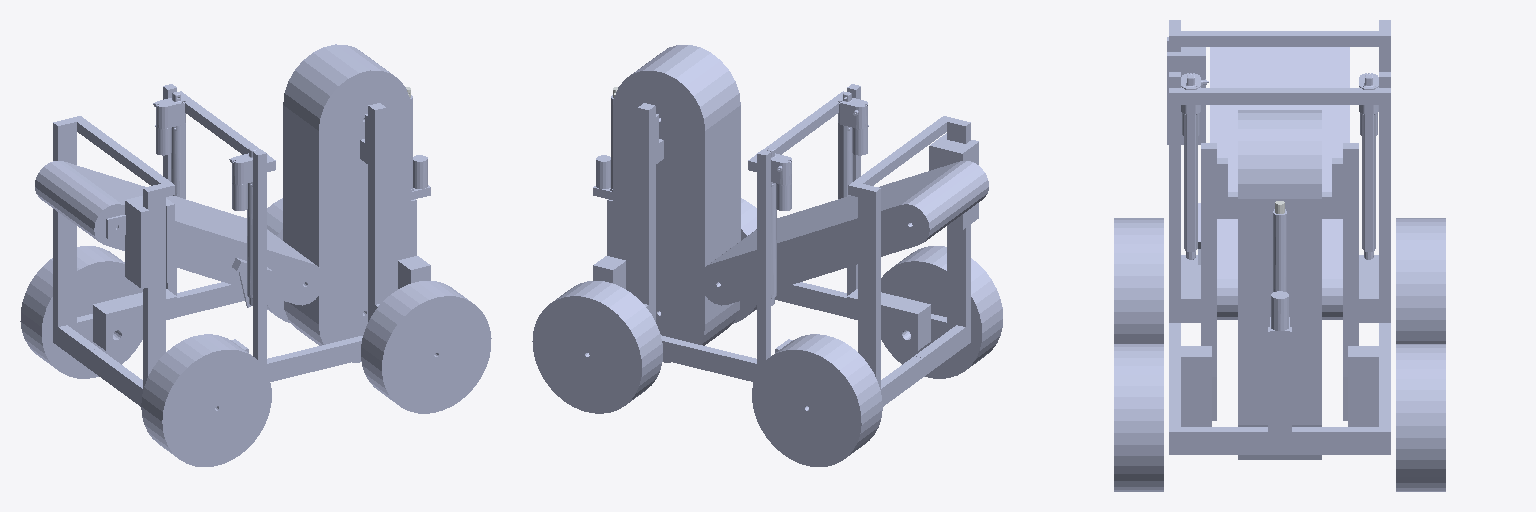
URDF robot description (ROSModel):
<robot
  name="ROSModel">
  <link
    name="base_link">
    <inertial>
      <origin
        xyz="0.0063713 -0.11708 0.0018811"
        rpy="0 0 0" />
      <mass
        value="12.883" />
      <inertia
        ixx="0.27816"
        ixy="-0.020687"
        ixz="1.9963E-05"
        iyy="0.59209"
        iyz="3.0096E-05"
        izz="0.60601" />
    </inertial>
    <visual>
      <origin
        xyz="0 0 0"
        rpy="0 0 0" />
      <geometry>
        <mesh
          filename="package://ROSModel/meshes/base_link.STL" />
      </geometry>
      <material
        name="">
        <color
          rgba="0.79216 0.81961 0.93333 1" />
      </material>
    </visual>
    <collision>
      <origin
        xyz="0 0 0"
        rpy="0 0 0" />
      <geometry>
        <mesh
          filename="package://ROSModel/meshes/base_link.STL" />
      </geometry>
    </collision>
  </link>
  <link
    name="frontLeftWheel">
    <inertial>
      <origin
        xyz="0 0 -0.0508"
        rpy="0 0 0" />
      <mass
        value="7.4005" />
      <inertia
        ixx="0"
        ixy="0"
        ixz="0"
        iyy="0"
        iyz="0"
        izz="0" />
    </inertial>
    <visual>
      <origin
        xyz="0 0 0"
        rpy="0 0 0" />
      <geometry>
        <mesh
          filename="package://ROSModel/meshes/frontLeftWheel.STL" />
      </geometry>
      <material
        name="">
        <color
          rgba="0.79216 0.81961 0.93333 1" />
      </material>
    </visual>
    <collision>
      <origin
        xyz="0 0 0"
        rpy="0 0 0" />
      <geometry>
        <mesh
          filename="package://ROSModel/meshes/frontLeftWheel.STL" />
      </geometry>
    </collision>
  </link>
  <joint
    name="frontLeftWheelRotate"
    type="continuous">
    <origin
      xyz="0.30464 0.23782 -0.28624"
      rpy="1.5708 0.0022295 -1.3651E-19" />
    <parent
      link="base_link" />
    <child
      link="frontLeftWheel" />
    <axis
      xyz="0 0 1" />
  </joint>
  <link
    name="backLeftWheel">
    <inertial>
      <origin
        xyz="-1.6653E-16 -1.9602E-16 -0.0508"
        rpy="0 0 0" />
      <mass
        value="7.4005" />
      <inertia
        ixx="0"
        ixy="0"
        ixz="0"
        iyy="0"
        iyz="0"
        izz="0" />
    </inertial>
    <visual>
      <origin
        xyz="0 0 0"
        rpy="0 0 0" />
      <geometry>
        <mesh
          filename="package://ROSModel/meshes/backLeftWheel.STL" />
      </geometry>
      <material
        name="">
        <color
          rgba="0.79216 0.81961 0.93333 1" />
      </material>
    </visual>
    <collision>
      <origin
        xyz="0 0 0"
        rpy="0 0 0" />
      <geometry>
        <mesh
          filename="package://ROSModel/meshes/backLeftWheel.STL" />
      </geometry>
    </collision>
  </link>
  <joint
    name="backLeftWheelRotate"
    type="continuous">
    <origin
      xyz="-0.30496 0.23782 -0.28624"
      rpy="1.5708 -0.71925 -3.6358E-15" />
    <parent
      link="base_link" />
    <child
      link="backLeftWheel" />
    <axis
      xyz="0 0 1" />
  </joint>
  <link
    name="frontRightWheel">
    <inertial>
      <origin
        xyz="0 0 0.0508"
        rpy="0 0 0" />
      <mass
        value="7.4005" />
      <inertia
        ixx="0"
        ixy="0"
        ixz="0"
        iyy="0"
        iyz="0"
        izz="0" />
    </inertial>
    <visual>
      <origin
        xyz="0 0 0"
        rpy="0 0 0" />
      <geometry>
        <mesh
          filename="package://ROSModel/meshes/frontRightWheel.STL" />
      </geometry>
      <material
        name="">
        <color
          rgba="0.79216 0.81961 0.93333 1" />
      </material>
    </visual>
    <collision>
      <origin
        xyz="0 0 0"
        rpy="0 0 0" />
      <geometry>
        <mesh
          filename="package://ROSModel/meshes/frontRightWheel.STL" />
      </geometry>
    </collision>
  </link>
  <joint
    name="frontRightWheelRotate"
    type="continuous">
    <origin
      xyz="0.30464 -0.2416 -0.28624"
      rpy="1.5708 -0.055957 3.4299E-18" />
    <parent
      link="base_link" />
    <child
      link="frontRightWheel" />
    <axis
      xyz="0 0 1" />
  </joint>
  <link
    name="backRightWheel">
    <inertial>
      <origin
        xyz="5.55111512312578E-17 0 0.0508"
        rpy="0 0 0" />
      <mass
        value="7.40046273221895" />
      <inertia
        ixx="0"
        ixy="0"
        ixz="0"
        iyy="0"
        iyz="0"
        izz="0" />
    </inertial>
    <visual>
      <origin
        xyz="0 0 0"
        rpy="0 0 0" />
      <geometry>
        <mesh
          filename="package://ROSModel/meshes/backRightWheel.STL" />
      </geometry>
      <material
        name="">
        <color
          rgba="0.792156862745098 0.819607843137255 0.933333333333333 1" />
      </material>
    </visual>
    <collision>
      <origin
        xyz="0 0 0"
        rpy="0 0 0" />
      <geometry>
        <mesh
          filename="package://ROSModel/meshes/backRightWheel.STL" />
      </geometry>
    </collision>
  </link>
  <joint
    name="backRightWheelRotate"
    type="continuous">
    <origin
      xyz="-0.30496 -0.2416 -0.28624"
      rpy="1.5708 0 0" />
    <parent
      link="base_link" />
    <child
      link="backRightWheel" />
    <axis
      xyz="0 0 1" />
  </joint>
  <link
    name="depRightActuator">
    <inertial>
      <origin
        xyz="-4.2562E-09 -0.020725 3.5813E-09"
        rpy="0 0 0" />
      <mass
        value="0.088669" />
      <inertia
        ixx="0"
        ixy="0"
        ixz="0"
        iyy="0"
        iyz="0"
        izz="0" />
    </inertial>
    <visual>
      <origin
        xyz="0 0 0"
        rpy="0 0 0" />
      <geometry>
        <mesh
          filename="package://ROSModel/meshes/depRightActuator.STL" />
      </geometry>
      <material
        name="">
        <color
          rgba="0.79216 0.81961 0.93333 1" />
      </material>
    </visual>
    <collision>
      <origin
        xyz="0 0 0"
        rpy="0 0 0" />
      <geometry>
        <mesh
          filename="package://ROSModel/meshes/depRightActuator.STL" />
      </geometry>
    </collision>
  </link>
  <joint
    name="depRightExtend"
    type="prismatic">
    <origin
      xyz="-0.11281 -0.18528 0"
      rpy="-1.5708 0 0" />
    <parent
      link="base_link" />
    <child
      link="depRightActuator" />
    <axis
      xyz="0 -1 0" />
    <limit
      effort="0"
      velocity="0" />
  </joint>
  <link
    name="depConveyor">
    <inertial>
      <origin
        xyz="0.28997 -6.0219E-05 0.15395"
        rpy="0 0 0" />
      <mass
        value="22.501" />
      <inertia
        ixx="0.039859"
        ixy="6.0953E-06"
        ixz="0.047728"
        iyy="0.097009"
        iyz="-5.0904E-06"
        izz="0.05715" />
    </inertial>
    <visual>
      <origin
        xyz="0 0 0"
        rpy="0 0 0" />
      <geometry>
        <mesh
          filename="package://ROSModel/meshes/depConveyor.STL" />
      </geometry>
      <material
        name="">
        <color
          rgba="0.79216 0.81961 0.93333 1" />
      </material>
    </visual>
    <collision>
      <origin
        xyz="0 0 0"
        rpy="0 0 0" />
      <geometry>
        <mesh
          filename="package://ROSModel/meshes/depConveyor.STL" />
      </geometry>
    </collision>
  </link>
  <joint
    name="depConveyorRotate"
    type="fixed">
    <origin
      xyz="-0.36547 -0.16157 0.32661"
      rpy="3.1416 0 0.48826" />
    <parent
      link="depRightActuator" />
    <child
      link="depConveyor" />
    <axis
      xyz="0 0 0" />
  </joint>
  <link
    name="depLeftActuator">
    <inertial>
      <origin
        xyz="-4.2562E-09 -0.020725 3.5813E-09"
        rpy="0 0 0" />
      <mass
        value="0.088669" />
      <inertia
        ixx="0"
        ixy="0"
        ixz="0"
        iyy="0"
        iyz="0"
        izz="0" />
    </inertial>
    <visual>
      <origin
        xyz="0 0 0"
        rpy="0 0 0" />
      <geometry>
        <mesh
          filename="package://ROSModel/meshes/depLeftActuator.STL" />
      </geometry>
      <material
        name="">
        <color
          rgba="0.79216 0.81961 0.93333 1" />
      </material>
    </visual>
    <collision>
      <origin
        xyz="0 0 0"
        rpy="0 0 0" />
      <geometry>
        <mesh
          filename="package://ROSModel/meshes/depLeftActuator.STL" />
      </geometry>
    </collision>
  </link>
  <joint
    name="depLeftExtend"
    type="prismatic">
    <origin
      xyz="-0.11281 0.1815 0"
      rpy="-1.5708 6.3639E-19 3.1312" />
    <parent
      link="base_link" />
    <child
      link="depLeftActuator" />
    <axis
      xyz="0 -1 0" />
    <limit
      effort="0"
      velocity="0" />
  </joint>
  <link
    name="cameraActuator">
    <inertial>
      <origin
        xyz="-2.73470979195167E-09 0.124252406834887 -1.03760512334961E-09"
        rpy="0 0 0" />
      <mass
        value="0.210658735046211" />
      <inertia
        ixx="0"
        ixy="0"
        ixz="0"
        iyy="0"
        iyz="0"
        izz="0" />
    </inertial>
    <visual>
      <origin
        xyz="0 0 0"
        rpy="0 0 0" />
      <geometry>
        <mesh
          filename="package://ROSModel/meshes/cameraActuator.STL" />
      </geometry>
      <material
        name="">
        <color
          rgba="0.898039215686275 0.917647058823529 0.929411764705882 1" />
      </material>
    </visual>
    <collision>
      <origin
        xyz="0 0 0"
        rpy="0 0 0" />
      <geometry>
        <mesh
          filename="package://ROSModel/meshes/cameraActuator.STL" />
      </geometry>
    </collision>
  </link>
  <joint
    name="cameraExtend"
    type="prismatic">
    <origin
      xyz="0.41957 -0.0018055 0.0051623"
      rpy="1.5708 -3.9284E-18 -0.064201" />
    <parent
      link="base_link" />
    <child
      link="cameraActuator" />
    <axis
      xyz="0 1 0" />
    <limit
      effort="0"
      velocity="0" />
  </joint>
  <link
    name="intakeConveyor">
    <inertial>
      <origin
        xyz="-3.0286E-08 -0.0087509 0.085493"
        rpy="0 0 0" />
      <mass
        value="31.448" />
      <inertia
        ixx="0"
        ixy="0"
        ixz="0"
        iyy="0"
        iyz="0"
        izz="0" />
    </inertial>
    <visual>
      <origin
        xyz="0 0 0"
        rpy="0 0 0" />
      <geometry>
        <mesh
          filename="package://ROSModel/meshes/intakeConveyor.STL" />
      </geometry>
      <material
        name="">
        <color
          rgba="0.79216 0.81961 0.93333 1" />
      </material>
    </visual>
    <collision>
      <origin
        xyz="0 0 0"
        rpy="0 0 0" />
      <geometry>
        <mesh
          filename="package://ROSModel/meshes/intakeConveyor.STL" />
      </geometry>
    </collision>
  </link>
  <joint
    name="intakeExtend"
    type="prismatic">
    <origin
      xyz="0.25271 0.083601 0"
      rpy="1.5708 0 0" />
    <parent
      link="base_link" />
    <child
      link="intakeConveyor" />
    <axis
      xyz="0 1 0" />
    <limit
      lower="-0.54571"
      upper="0"
      effort="0"
      velocity="0" />
  </joint>
</robot>

--- Facts derived from the render (not from the file) ---
3 views of the same robot in one strip: view 1: azimuth 30°, elevation 25°; view 2: azimuth 150°, elevation 25°; view 3: azimuth 270°, elevation 25° (orthographic).
Robot: ROSModel — 10 links, 9 joints (4 continuous, 4 prismatic, 1 fixed); root link base_link; default pose: every joint at zero.
Visible links, largest first — view 1: base_link, intakeConveyor, depConveyor, backRightWheel, frontRightWheel, backLeftWheel, frontLeftWheel; view 2: base_link, intakeConveyor, depConveyor, frontLeftWheel, backLeftWheel, backRightWheel, frontRightWheel; view 3: base_link, intakeConveyor, depConveyor, frontLeftWheel, frontRightWheel, backLeftWheel, backRightWheel.
Boxes of the visible links, box(x1,y1,x2,y2) form: base_link: box(53, 84, 430, 406); intakeConveyor: box(283, 44, 410, 362); depConveyor: box(35, 161, 324, 307); backRightWheel: box(141, 334, 271, 466); frontRightWheel: box(361, 281, 491, 413); backLeftWheel: box(20, 246, 142, 378); frontLeftWheel: box(267, 198, 290, 322); base_link: box(593, 84, 970, 406); intakeConveyor: box(613, 45, 740, 362); depConveyor: box(699, 133, 988, 305); frontLeftWheel: box(532, 281, 662, 413); backLeftWheel: box(752, 334, 882, 466); backRightWheel: box(881, 246, 1002, 378); frontRightWheel: box(733, 198, 756, 323); base_link: box(1169, 20, 1390, 454); intakeConveyor: box(1217, 110, 1342, 459); depConveyor: box(1167, 37, 1349, 319); frontLeftWheel: box(1396, 344, 1445, 491); frontRightWheel: box(1114, 344, 1163, 491); backLeftWheel: box(1396, 218, 1445, 343); backRightWheel: box(1114, 218, 1163, 343).
Bounding box of the posed robot: 1.01 × 0.6826 × 0.8125 m (x, y, z).
Meshes: 10 distinct files referenced, 10 mesh visuals loaded (10 binary STL).
